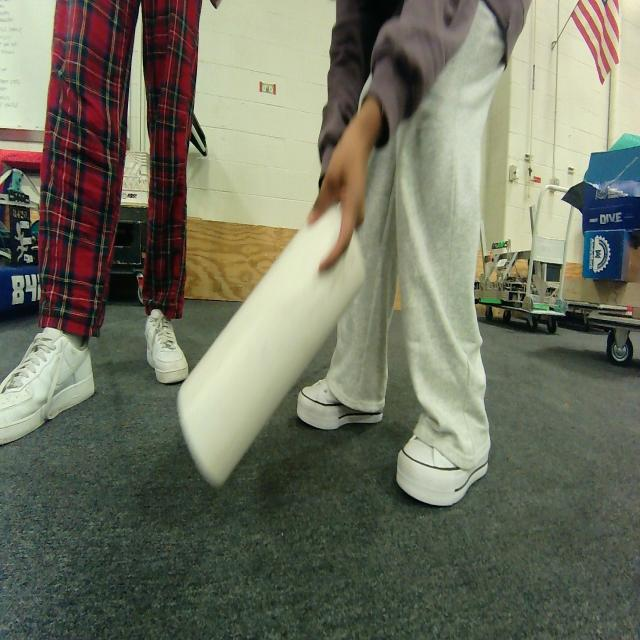coral: (177, 206, 365, 485)
